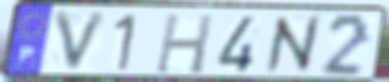1: (112, 13, 138, 74)
2: (320, 12, 377, 80)
4: (214, 14, 261, 75)
H: (153, 12, 216, 76)
N: (263, 14, 322, 77)
V: (51, 10, 112, 76)
